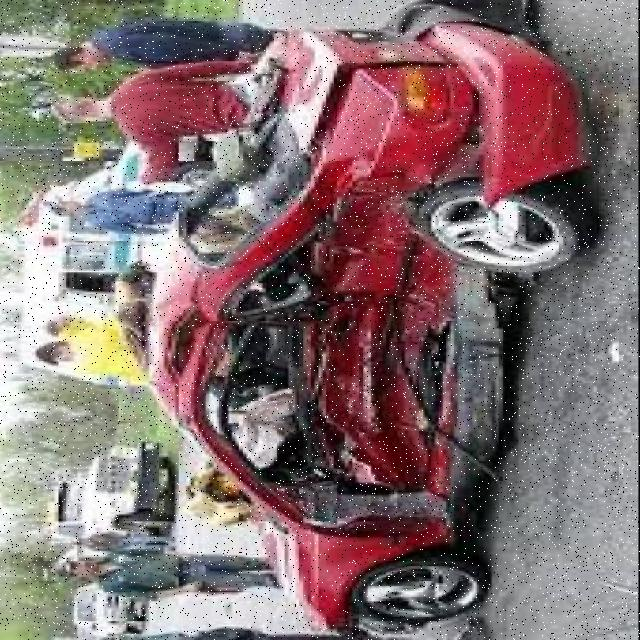damage: (145, 38, 577, 636)
